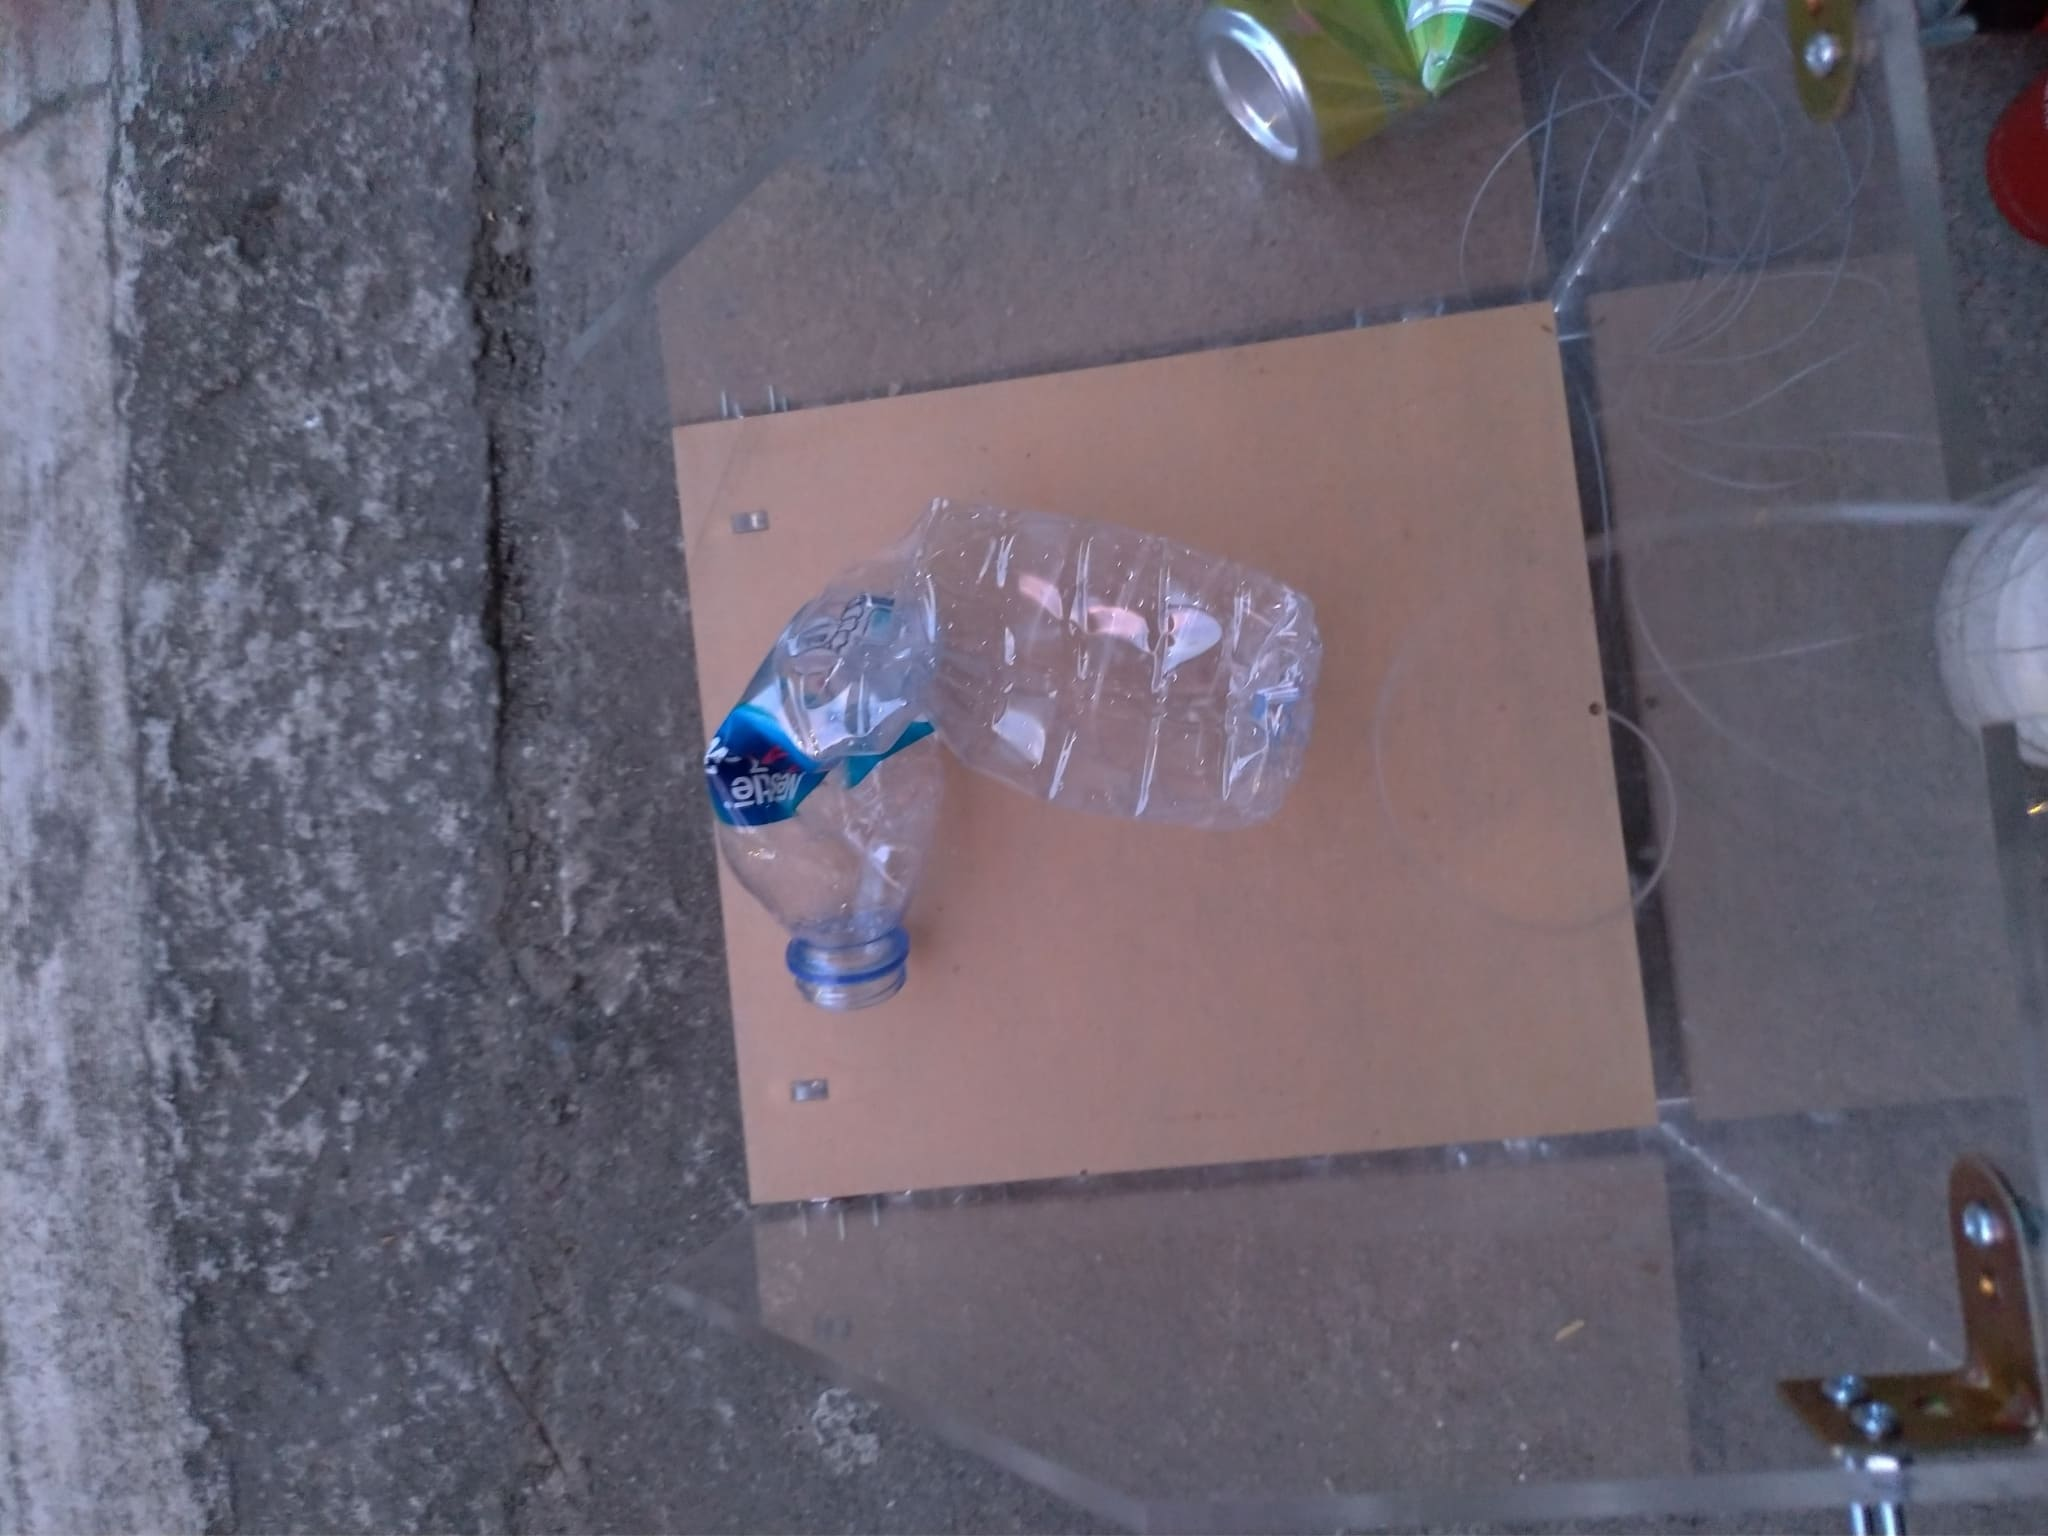AlCan: (1188, 6, 1532, 161)
PlasticBottle: (711, 494, 1317, 1005)
